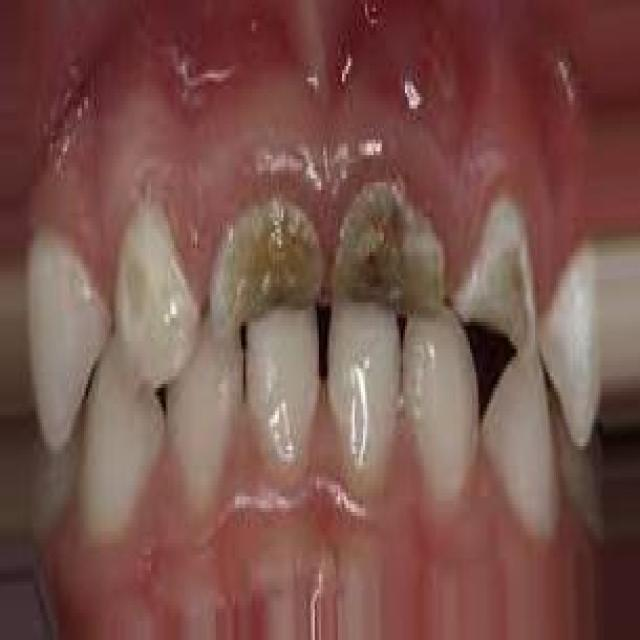caries: (325, 166, 449, 334), (204, 184, 327, 342), (452, 184, 543, 377), (107, 218, 170, 361)
